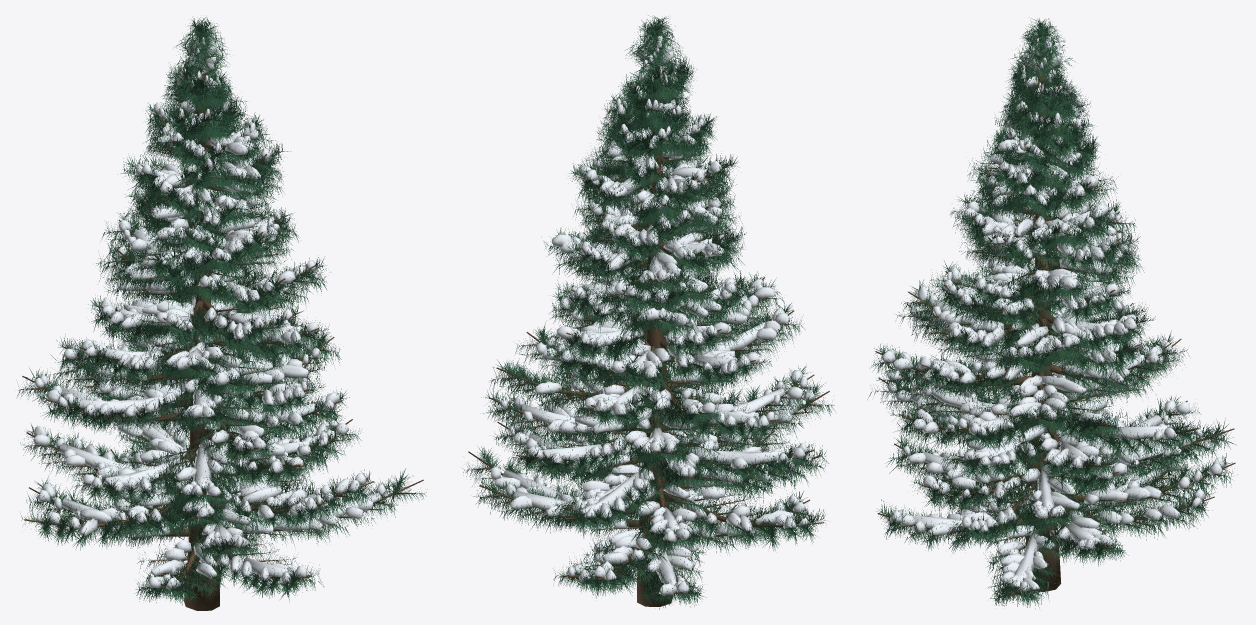
The model's file is snowy-pine.glb.
3 renders of one model, left to right at view 1: azimuth 30°, elevation 25°; view 2: azimuth 150°, elevation 25°; view 3: azimuth 270°, elevation 25°, orthographic. The views are drawn at different scales.
Visible parts, largest first — view 1: Snowy pine | individual evergreen needles, Snowy pine | uneven snow on branches, Snowy pine | trunk and branching boughs; view 2: Snowy pine | individual evergreen needles, Snowy pine | uneven snow on branches, Snowy pine | trunk and branching boughs; view 3: Snowy pine | individual evergreen needles, Snowy pine | uneven snow on branches, Snowy pine | trunk and branching boughs.
Part boxes in pixels (left/top/right/bottom): Snowy pine | individual evergreen needles: left=17, top=17, right=427, bottom=605; Snowy pine | uneven snow on branches: left=33, top=34, right=387, bottom=589; Snowy pine | trunk and branching boughs: left=22, top=48, right=423, bottom=610; Snowy pine | individual evergreen needles: left=462, top=15, right=835, bottom=609; Snowy pine | uneven snow on branches: left=490, top=30, right=815, bottom=595; Snowy pine | trunk and branching boughs: left=468, top=35, right=829, bottom=606; Snowy pine | individual evergreen needles: left=867, top=18, right=1236, bottom=608; Snowy pine | uneven snow on branches: left=881, top=33, right=1224, bottom=592; Snowy pine | trunk and branching boughs: left=875, top=50, right=1235, bottom=597.
Size of the model in its own units: 5.54 by 8.2 by 4.92.
